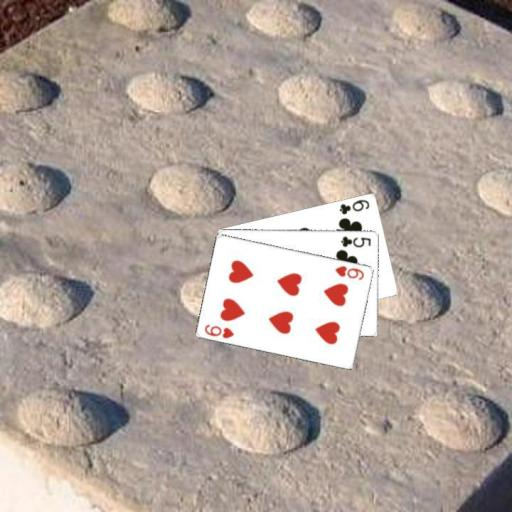5C: (338, 233, 373, 248)
6C: (337, 197, 372, 216)
6H: (332, 262, 366, 281), (202, 321, 235, 340)
